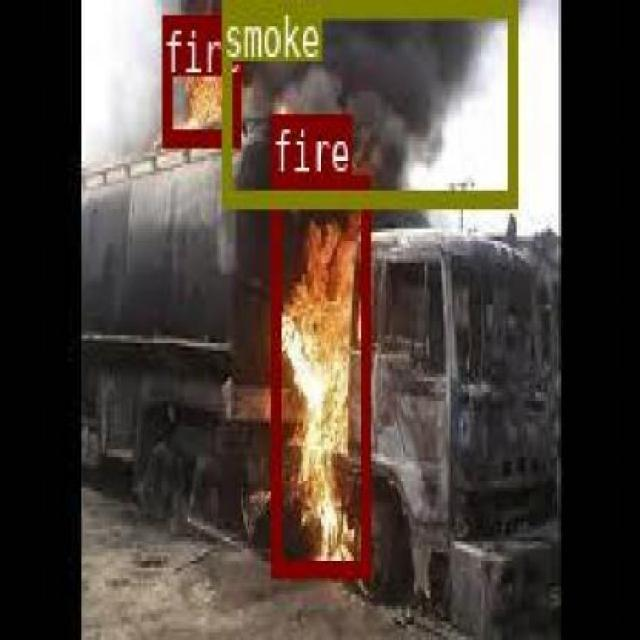CIV_Plane: (270, 173, 370, 575), (160, 13, 237, 144)
Fire: (270, 173, 370, 575), (160, 13, 237, 144)
Smoke: (221, 3, 514, 203)
